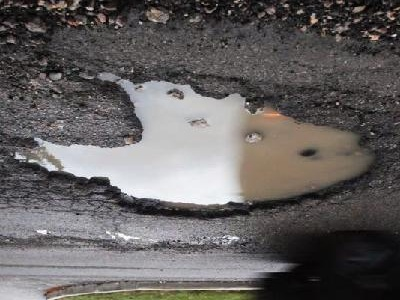pothole: (5, 67, 382, 224)
